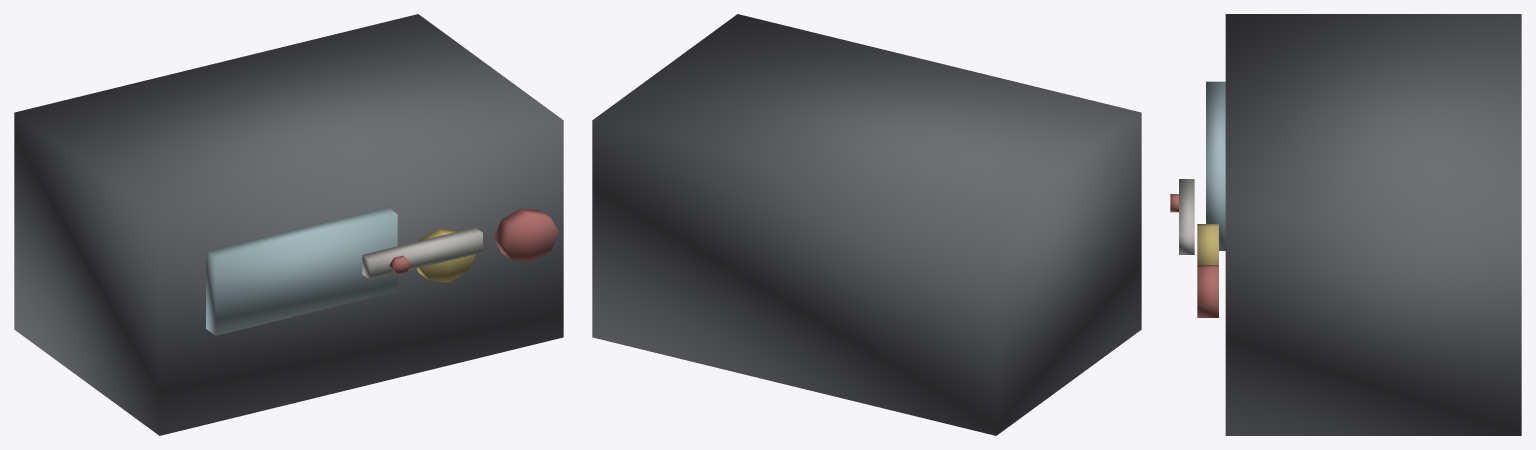
Rendered from bench_power_supply__wide.glb.
3 renders of one model, left to right at view 1: azimuth 30°, elevation 25°; view 2: azimuth 150°, elevation 25°; view 3: azimuth 270°, elevation 25°, orthographic.
Parts seen in each view (by area): view 1: world; view 2: world; view 3: world.
Part boxes in pixels (x1,y1,x2,y2): world: (14,14,563,435); world: (592,14,1141,435); world: (1170,14,1521,435).
Bounding box in the file's own units: 0.5456 × 0.28 × 0.4035.
